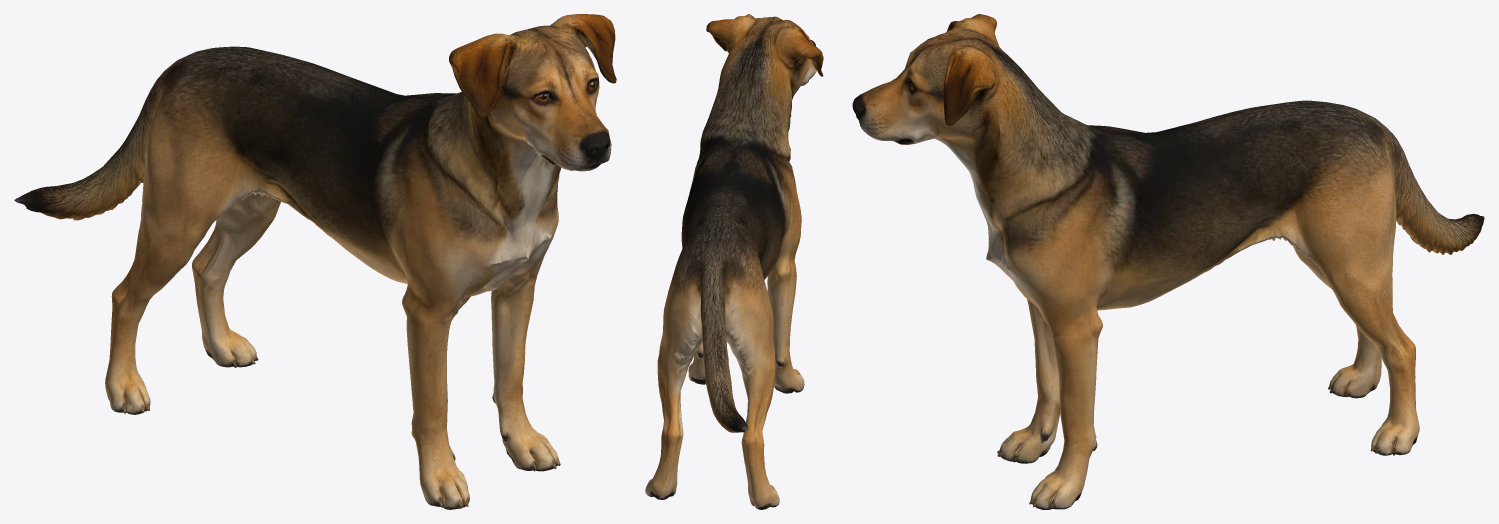
The model's file is dog.glb.
3 renders of one model, left to right at view 1: azimuth 30°, elevation 25°; view 2: azimuth 150°, elevation 25°; view 3: azimuth 270°, elevation 25°, orthographic. The views are drawn at different scales.
Parts seen in each view (by area): view 1: dog; view 2: dog; view 3: dog.
Boxes of the visible parts, box(x1,y1,x2,y2) form: dog: box(14, 14, 616, 509); dog: box(645, 14, 823, 509); dog: box(852, 14, 1484, 509).
Size of the model in its own units: 0.5287 by 0.7449 by 0.9499.
Materials: 1 (1 with a texture image).
